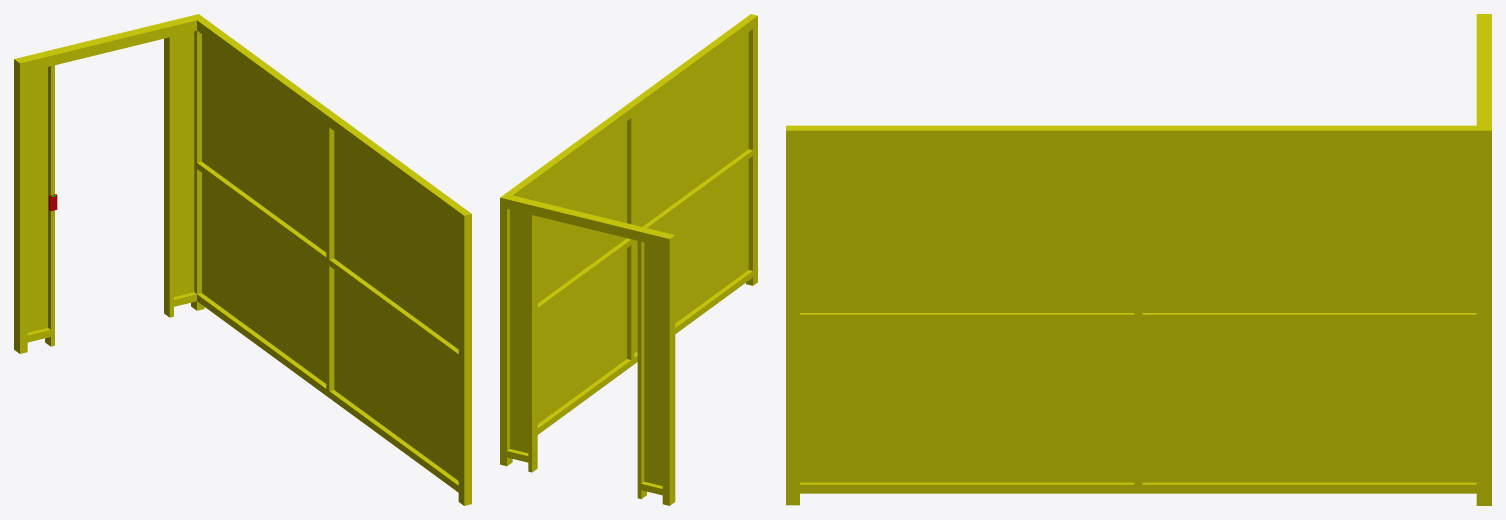
Rendered from Fence.fbx.
3 views of the same model, side by side, from view 1: azimuth 30°, elevation 25°; view 2: azimuth 150°, elevation 25°; view 3: azimuth 270°, elevation 25° (orthographic). The views are drawn at different scales.
Parts seen in each view (by area): view 1: Cube.002; view 2: Cube.002; view 3: Cube.002.
Boxes of the visible parts, x1=… form: Cube.002: x1=14, y1=14, x2=471, y2=505; Cube.002: x1=500, y1=14, x2=757, y2=505; Cube.002: x1=786, y1=14, x2=1491, y2=505.
Bounding box in the file's own units: 359 × 540 × 919.
